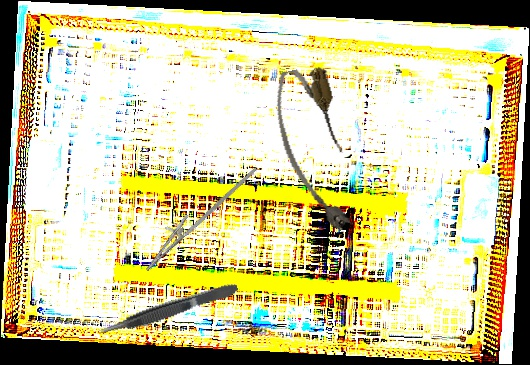Cannula: (266, 62, 363, 240)
Needle Holder: (136, 148, 258, 284)
Tissue Forceps: (95, 281, 241, 340)
